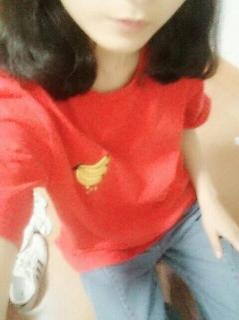long sleeve top: (0, 32, 211, 272)
trousers: (72, 189, 239, 319)
